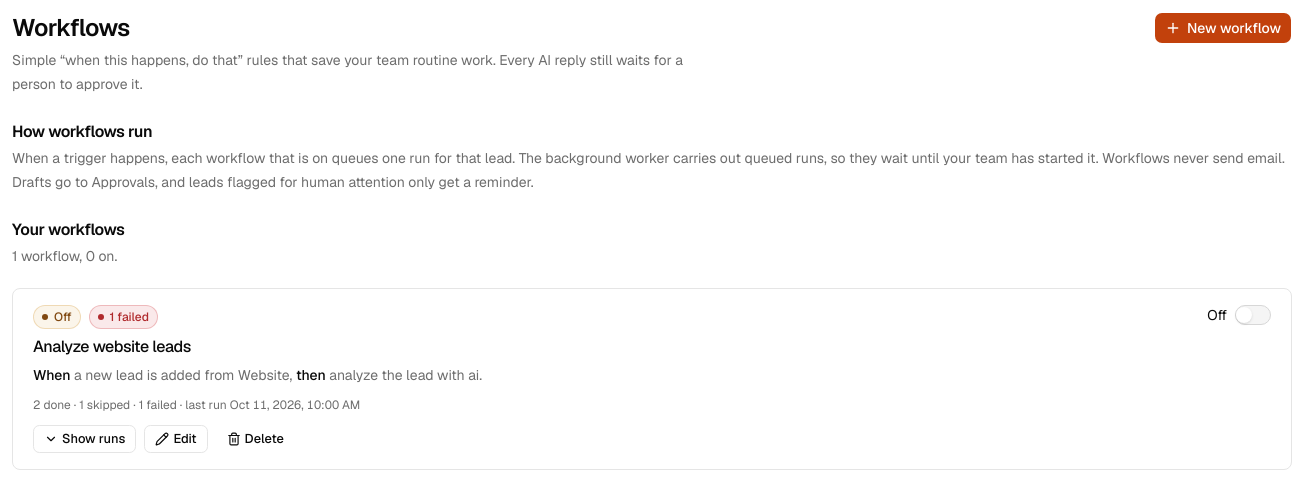
Test case: Workflows page › turns a rule on with its current revision
The width and height of the screenshot is (1304, 487).
Click the switch named "Turn on Analyze website leads".
click(1253, 315)  # box [1235,305,1271,325]
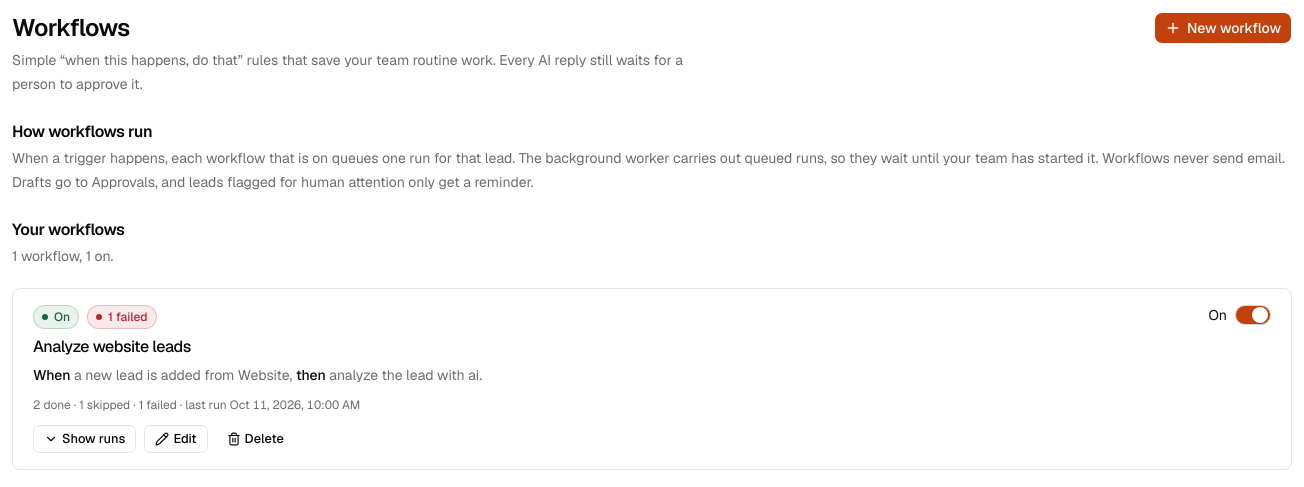
Expected: the switch named "Turn off Analyze website leads" is shown, [1235,305,1271,325]
